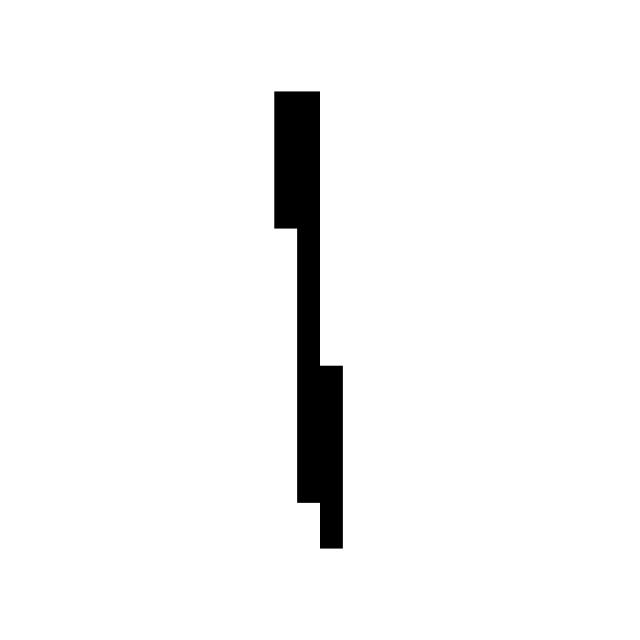1 -one-: (242, 69, 380, 567)
